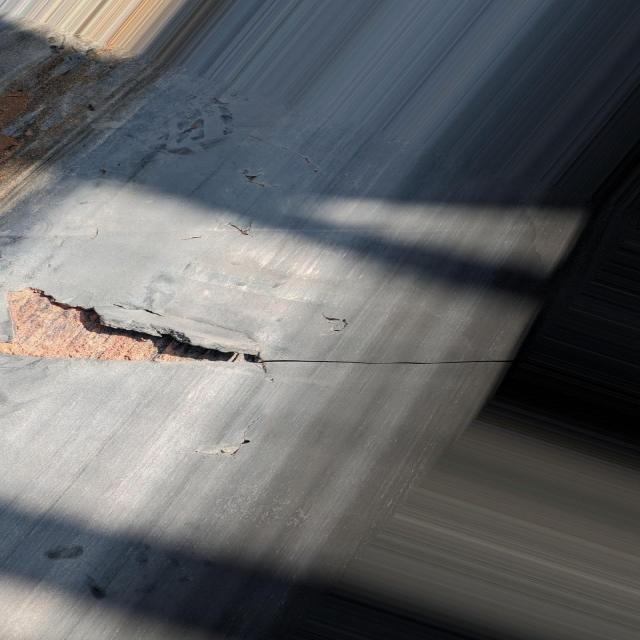Tear: (0, 274, 524, 370), (205, 431, 259, 459), (236, 164, 277, 192), (315, 310, 352, 336), (225, 214, 258, 240), (177, 234, 206, 242)
